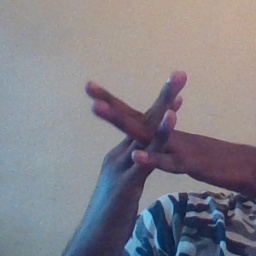W: (70, 60, 232, 219)
